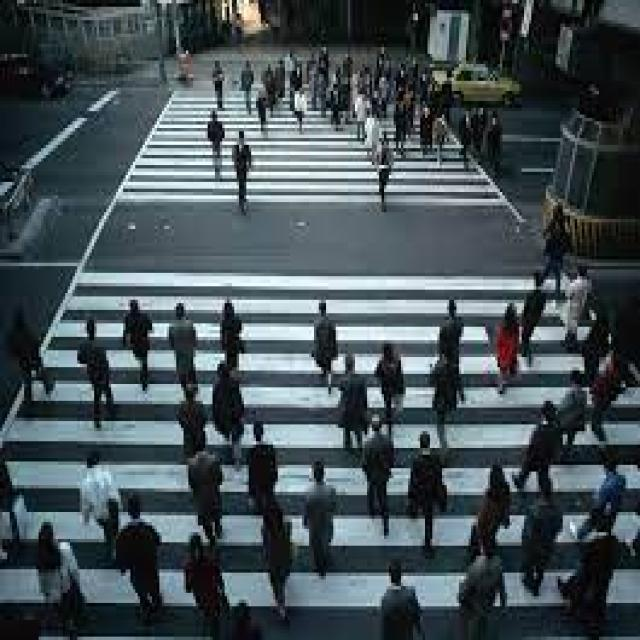Pedestrians: (34, 522, 87, 633), (118, 495, 162, 617), (75, 452, 121, 562), (517, 482, 560, 596), (406, 431, 444, 559), (454, 539, 507, 630), (179, 529, 227, 626), (75, 320, 116, 428), (374, 559, 428, 637), (304, 454, 336, 582), (260, 502, 294, 620), (362, 418, 398, 529), (12, 307, 53, 404), (585, 452, 635, 526), (524, 394, 565, 482), (210, 360, 244, 465), (118, 297, 152, 394), (188, 451, 224, 539), (560, 367, 596, 455), (164, 303, 198, 394), (478, 468, 512, 556), (430, 347, 459, 448), (336, 354, 367, 448), (374, 340, 408, 424), (560, 260, 590, 350), (490, 303, 517, 401), (312, 296, 336, 404), (249, 424, 280, 506), (522, 270, 546, 360), (230, 128, 253, 216), (440, 296, 466, 371), (178, 388, 208, 452), (205, 111, 227, 185), (374, 131, 394, 209), (218, 296, 242, 344)
